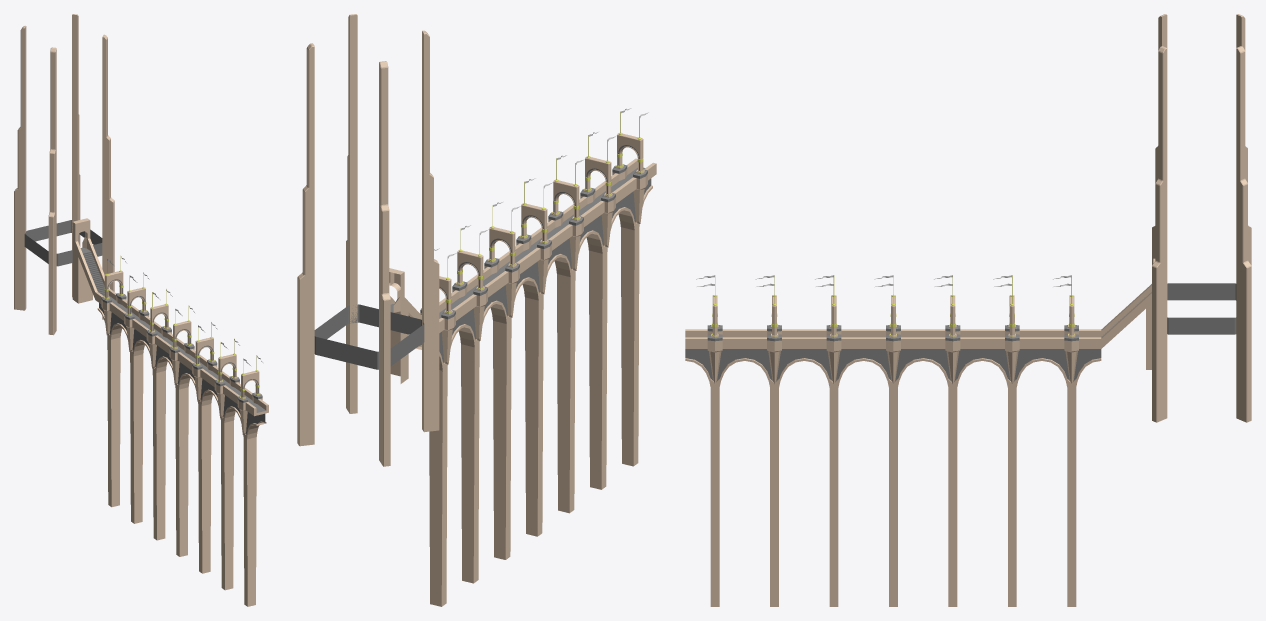
Rendered from Facade.fbx.
The picture shows the model from 3 angles, left to right: view 1: azimuth 30°, elevation 25°; view 2: azimuth 150°, elevation 25°; view 3: azimuth 270°, elevation 25°; orthographic projection. The views are drawn at different scales.
Visible parts, largest first — view 1: Base, Support, Top, Foundation, Facade, Cube, Flags, Stairs; view 2: Base, Support, Top, Foundation, Facade, Flags; view 3: Base, Top, Support, Foundation, Cube, Flags.
Boxes of the visible parts, <box> form: Base: <box>97,303,266,606</box>; Support: <box>14,14,114,335</box>; Top: <box>95,271,268,434</box>; Foundation: <box>24,220,102,266</box>; Facade: <box>72,218,92,303</box>; Cube: <box>78,245,109,299</box>; Flags: <box>106,255,262,374</box>; Stairs: <box>82,251,104,295</box>; Base: <box>416,178,652,606</box>; Support: <box>297,14,439,466</box>; Top: <box>420,133,656,364</box>; Foundation: <box>314,304,424,369</box>; Facade: <box>389,268,408,383</box>; Flags: <box>434,108,648,279</box>; Base: <box>685,349,1101,606</box>; Top: <box>685,295,1101,383</box>; Support: <box>1152,14,1251,422</box>; Foundation: <box>1167,283,1236,334</box>; Cube: <box>1101,289,1145,348</box>; Flags: <box>696,275,1073,305</box>.
Bounding box in the file's own units: 2684 × 17025 × 15242.
